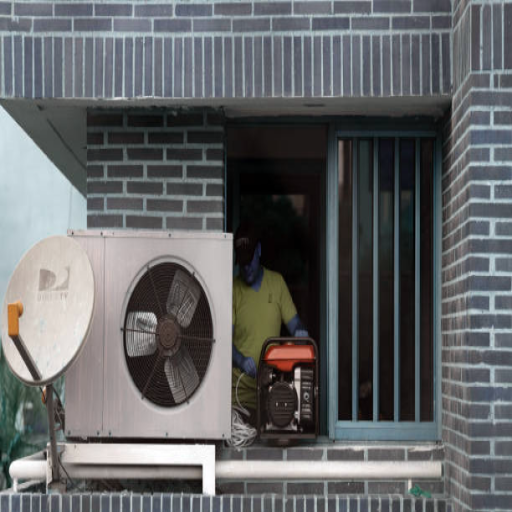portable_generator: (257, 337, 320, 442)
